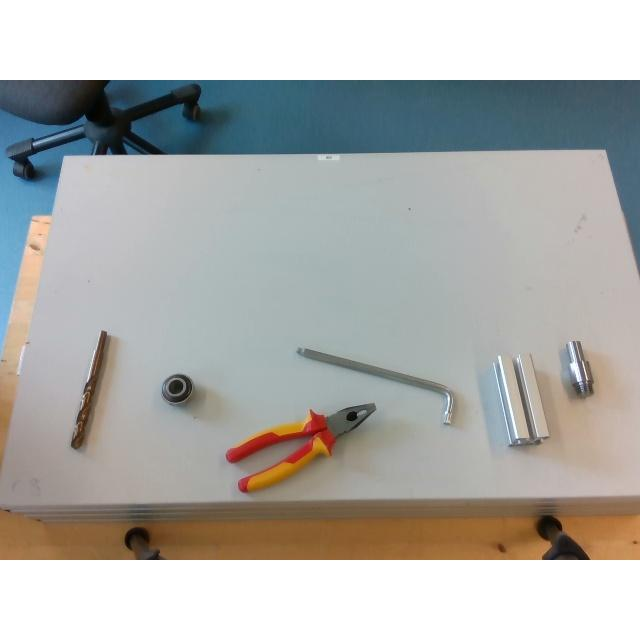AllenKey: (297, 348, 453, 424)
Axis2: (565, 339, 593, 396)
Bearing2: (162, 373, 194, 402)
Drill: (70, 330, 108, 448)
S40_40_G: (493, 353, 549, 445)
